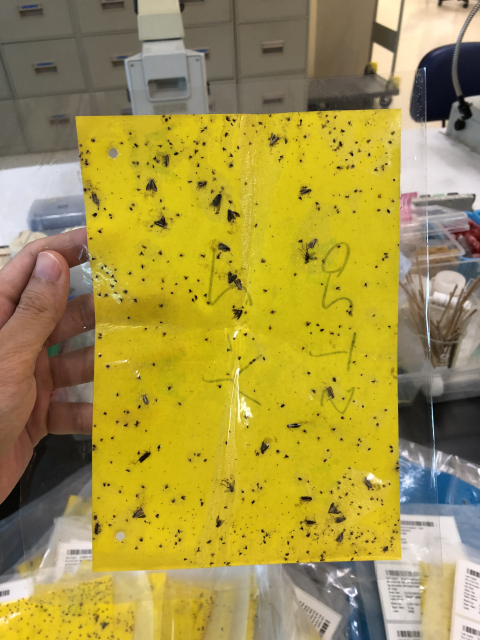DBM: (150, 215, 170, 232), (265, 130, 282, 149), (128, 505, 147, 520), (143, 177, 158, 195), (305, 236, 321, 251), (257, 439, 271, 456), (225, 269, 238, 286), (284, 421, 302, 433), (137, 392, 151, 407), (361, 475, 375, 490), (232, 277, 245, 293), (296, 186, 314, 197), (327, 502, 342, 515), (332, 530, 345, 545), (331, 514, 349, 524), (325, 385, 336, 401), (90, 191, 101, 207), (160, 154, 170, 170)
